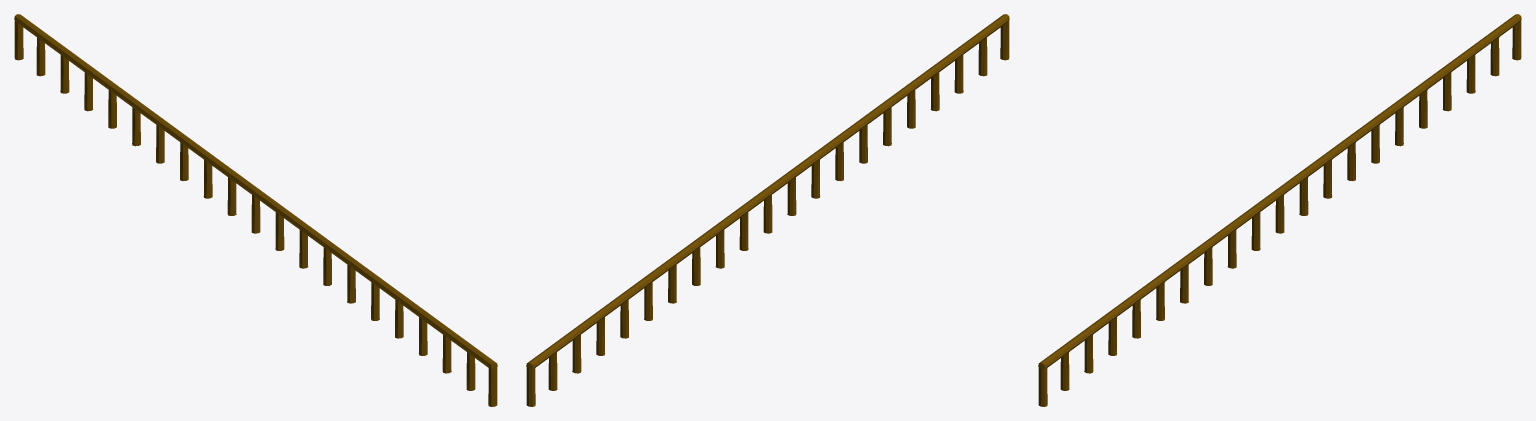
Rendered from Enviro_PicketFence_001.fbx.
3 views of the same model, side by side, from view 1: azimuth 30°, elevation 25°; view 2: azimuth 150°, elevation 25°; view 3: azimuth 330°, elevation 25° (orthographic).
Visible parts, largest first — view 1: Enviro_PicketFence_001; view 2: Enviro_PicketFence_001; view 3: Enviro_PicketFence_001.
Boxes of the visible parts, x1,y1,x2,y2 form: Enviro_PicketFence_001: (14, 14, 497, 406); Enviro_PicketFence_001: (526, 14, 1009, 406); Enviro_PicketFence_001: (1038, 14, 1521, 406).
Bounding box in the file's own units: 19.9 × 100 × 2000.
